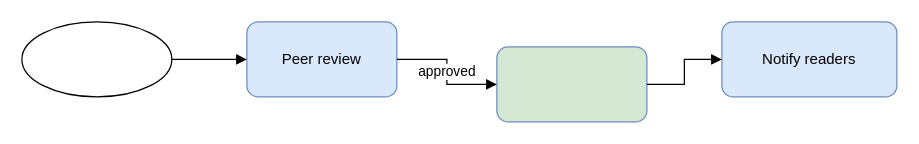
Some shapes in this 919 by 144 pixel diagram are drawn without their labels. The shapes that lost their labels are listed below. From the top down, each one's centre as x and y in pixels, then its label:
At point 96,59: "Start".
At point 571,84: "Publish".
